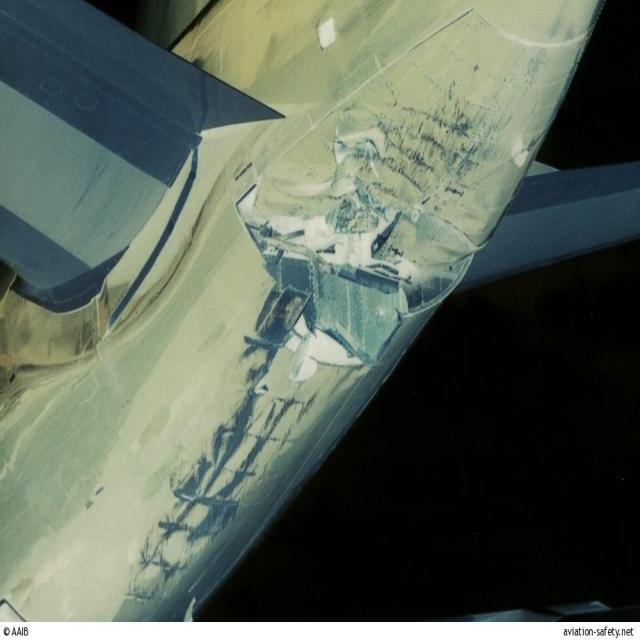crack: (236, 170, 418, 372)
